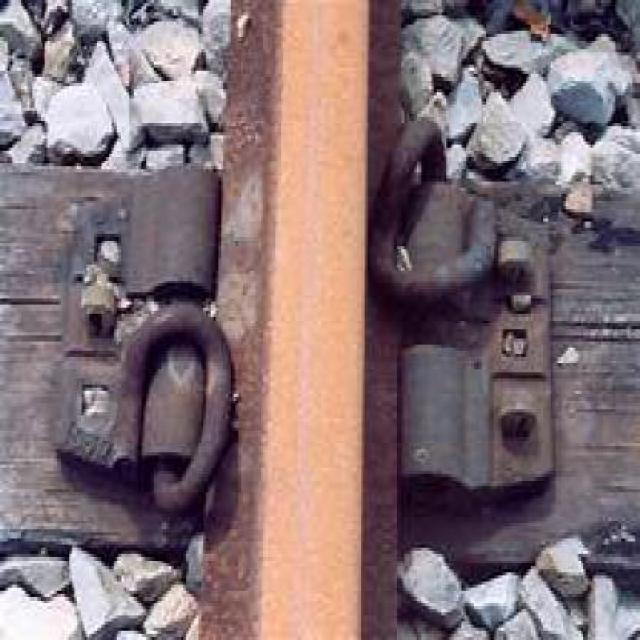defective: (175, 1, 441, 640)
